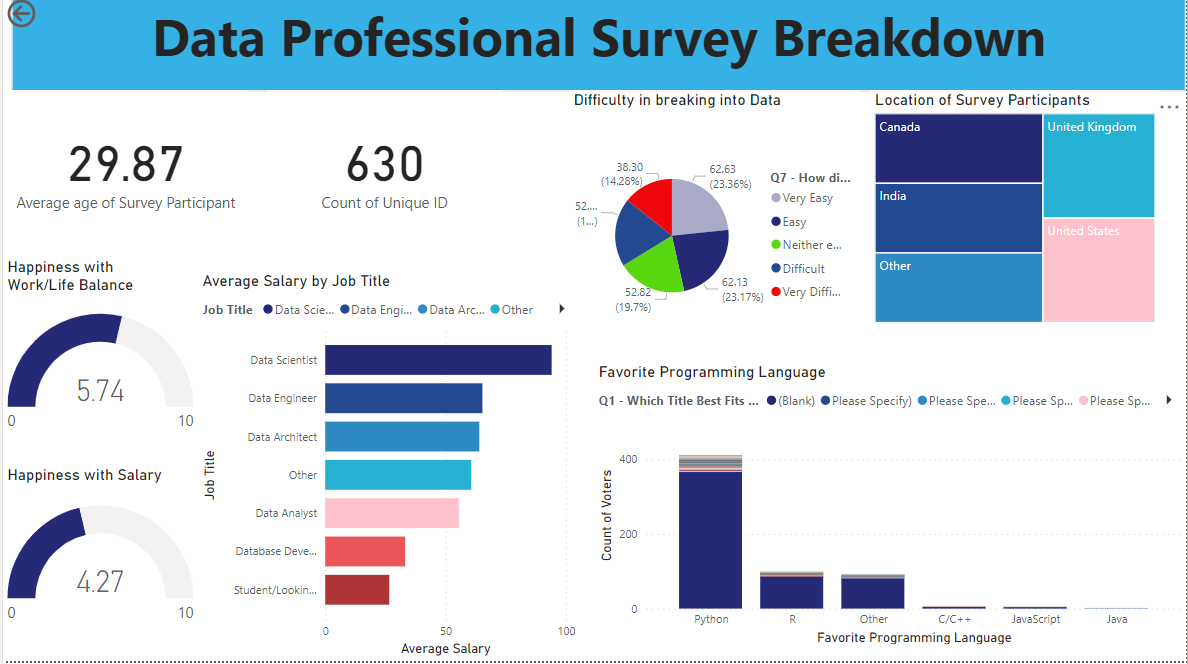

What the dashboard file says about the page in this screenshot:
{"tool":"powerbi","page":{"name":"Page 1","canvas":[1280,720],"ordinal":0},"visuals":[{"type":"textbox","box":[9.6,0,1269.9,103.7],"z":0},{"type":"card","fields":{"Values":["Avg(Data Professional Survey.Q10 - Current Age)"]},"box":[0,103.3,265.8,167.1],"z":1000},{"type":"barChart","title":"Average Salary by Job Title","fields":{"Category":["Data Professional Survey.Q1 - Which Title Best Fits your Current Role?.1"],"Y":["Avg(Data Professional Survey.Average Income Salary)"],"Series":["Data Professional Survey.Q1 - Which Title Best Fits your Current Role?.1"]},"box":[211.2,299.3,413.2,420.8],"z":2000},{"type":"columnChart","title":"Favorite Programming Language","fields":{"Category":["Data Professional Survey.Q5 - Favorite Programming Language.1"],"Y":["CountNonNull(Data Professional Survey.Unique ID)"],"Series":["Data Professional Survey.Q1 - Which Title Best Fits your Current Role?.2"]},"box":[639.5,398,641.1,309.9],"z":3000},{"type":"treemap","title":"Location of Survey Participants","fields":{"Group":["Data Professional Survey.Q11 - Which Country do you live in?.1"],"Values":["Count(Data Professional Survey.Q11 - Which Country do you live in?.1)"]},"box":[938.8,103.3,312.9,256.7],"z":4000},{"type":"card","fields":{"Values":["Count(Data Professional Survey.Unique ID)"]},"box":[285.6,103.3,255.2,167.1],"z":5000},{"type":"actionButton","box":[0,0,100,40],"z":6000},{"type":"gauge","title":"Happiness with Work/Life Balance ","fields":{"Y":["Avg(Data Professional Survey.Q6 - How Happy are you in your Current Position with the following? (Work/Life Balance))"],"MinValue":["Min(Data Professional Survey.Q6 - How Happy are you in your Current Position with the following? (Work/Life Balance))1"],"MaxValue":["Max(Data Professional Survey.Q6 - How Happy are you in your Current Position with the following? (Work/Life Balance))2"]},"box":[0,284.1,211.2,212.7],"z":7000},{"type":"gauge","title":"Happiness with Salary","fields":{"Y":["Avg(Data Professional Survey.Q6 - How Happy are you in your Current Position with the following? (Salary))"],"MinValue":["Min(Data Professional Survey.Q6 - How Happy are you in your Current Position with the following? (Salary))"],"MaxValue":["Max(Data Professional Survey.Q6 - How Happy are you in your Current Position with the following? (Salary))"]},"box":[0,508.9,211.2,199],"z":8000},{"type":"pieChart","title":"Difficulty in breaking into Data","fields":{"Category":["Data Professional Survey.Q7 - How difficult was it for you to break into Data?"],"Y":["Avg(Data Professional Survey.Average Income Salary)"]},"box":[612.2,103.3,314.5,294.7],"z":9000}]}

Visuals, with their boxes in screenshot pixels (x1, y1, x2, y2), scaled from the page's 1280x720 canvas onto the 1188x664 screenshot:
textbox: {"left": 9, "top": 0, "right": 1187, "bottom": 96}
card - Avg(Data Professional Survey.Q10 - Current Age): {"left": 0, "top": 95, "right": 247, "bottom": 249}
"Average Salary by Job Title" barChart: {"left": 196, "top": 276, "right": 580, "bottom": 663}
"Favorite Programming Language" columnChart: {"left": 594, "top": 367, "right": 1187, "bottom": 653}
"Location of Survey Participants" treemap: {"left": 871, "top": 95, "right": 1162, "bottom": 332}
card - Count(Data Professional Survey.Unique ID): {"left": 265, "top": 95, "right": 502, "bottom": 249}
actionButton: {"left": 0, "top": 0, "right": 93, "bottom": 37}
"Happiness with Work/Life Balance " gauge: {"left": 0, "top": 262, "right": 196, "bottom": 458}
"Happiness with Salary" gauge: {"left": 0, "top": 469, "right": 196, "bottom": 653}
"Difficulty in breaking into Data" pieChart: {"left": 568, "top": 95, "right": 860, "bottom": 367}
